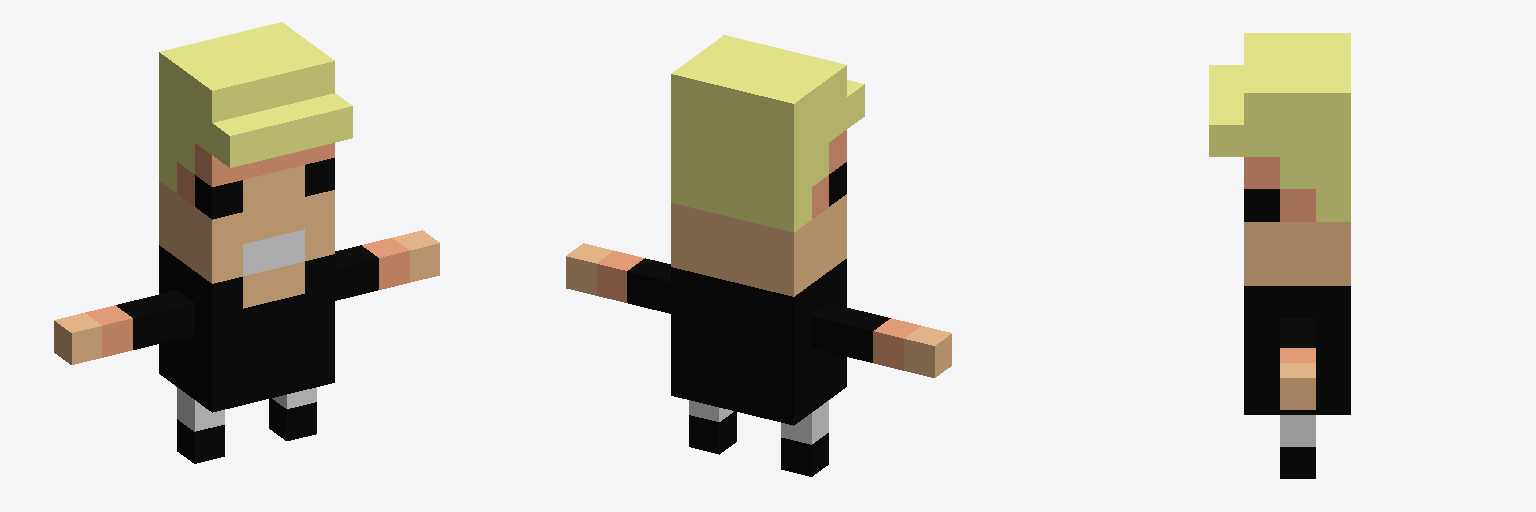
3 renders of one model, left to right at view 1: azimuth 30°, elevation 25°; view 2: azimuth 150°, elevation 25°; view 3: azimuth 270°, elevation 25°, orthographic.
Parts seen in each view (by area): view 1: object 1; view 2: object 1; view 3: object 1.
Part boxes in pixels (x1,y1,x2,y2): object 1: (54,22,439,463); object 1: (566,35,951,476); object 1: (1209,33,1350,478).
Size of the model in its own units: 1.2 by 1.2 by 0.4.
1 materials, 1 textured.